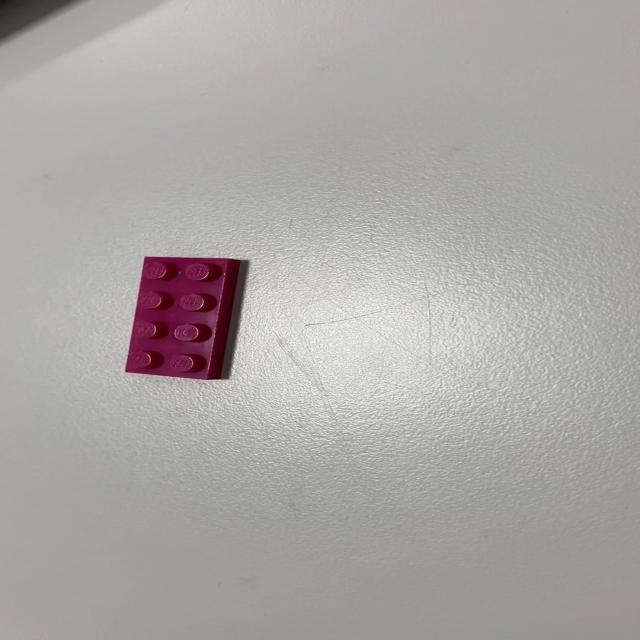C4x2x0: (122, 256, 242, 380)
